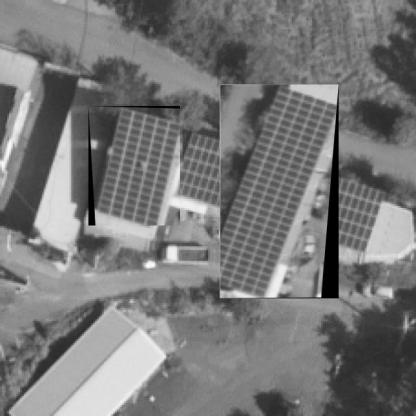solar-pv-panel: (220, 85, 337, 298), (93, 107, 180, 226)
